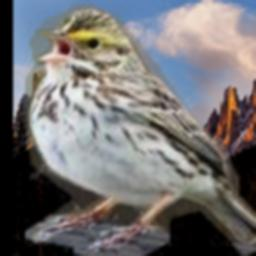Sparrow: (25, 0, 256, 256)
